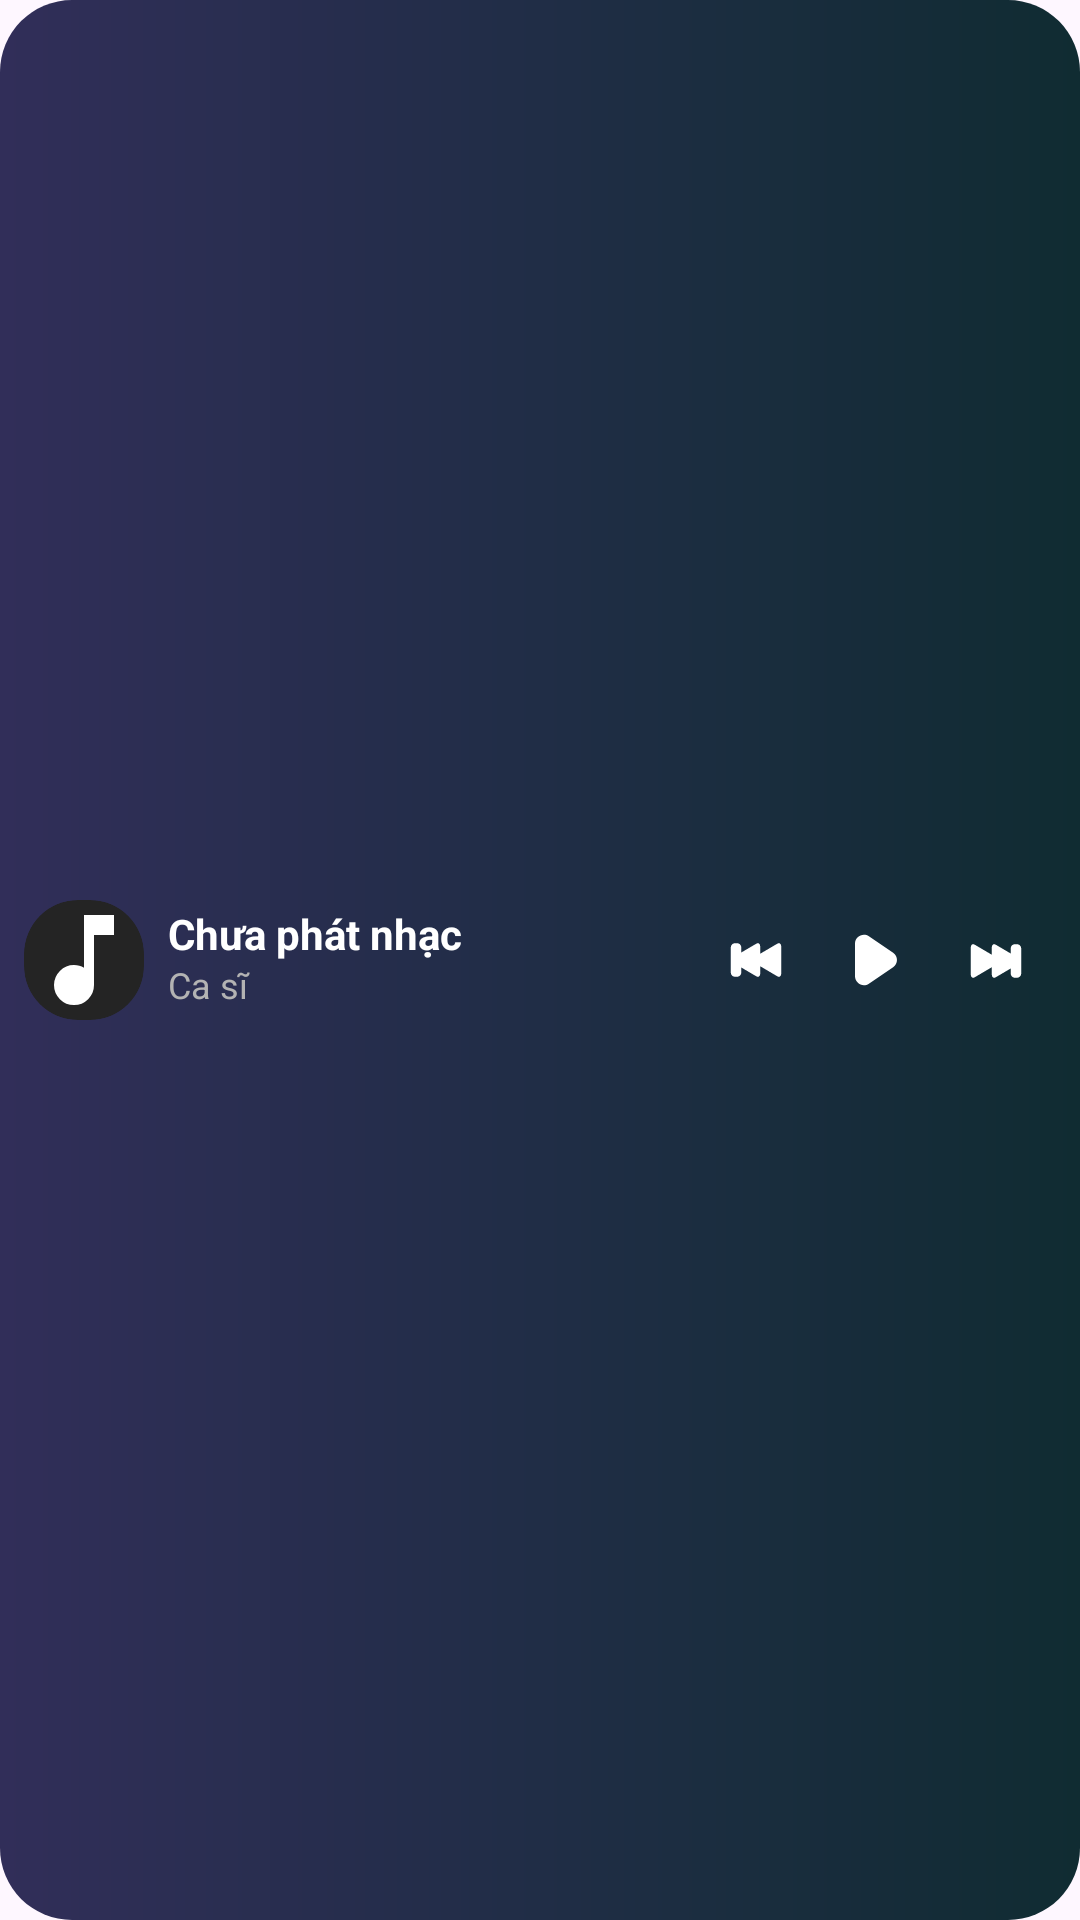

Where icons sit on this 1080px x 1920px app screen, as region(x1, y1, x2, y2):
Bài sau: region(970, 944, 1022, 978)
Bài trước: region(730, 943, 782, 977)
music note: region(24, 900, 144, 1020)
